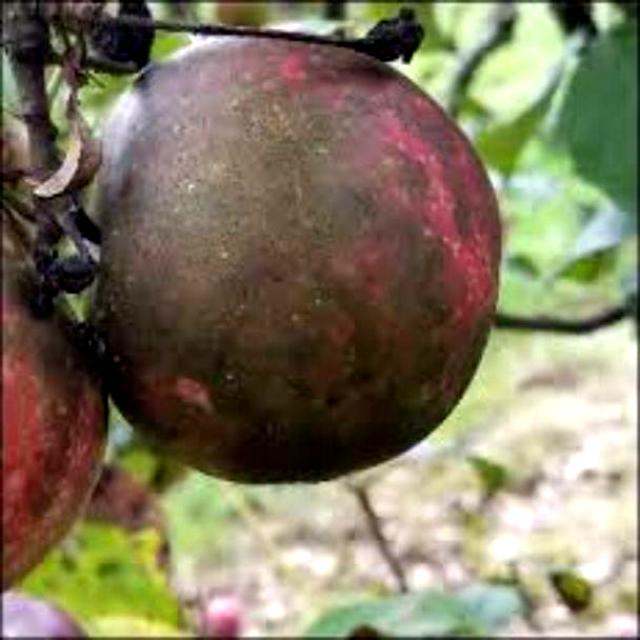BLOTCH: (65, 0, 538, 499)
